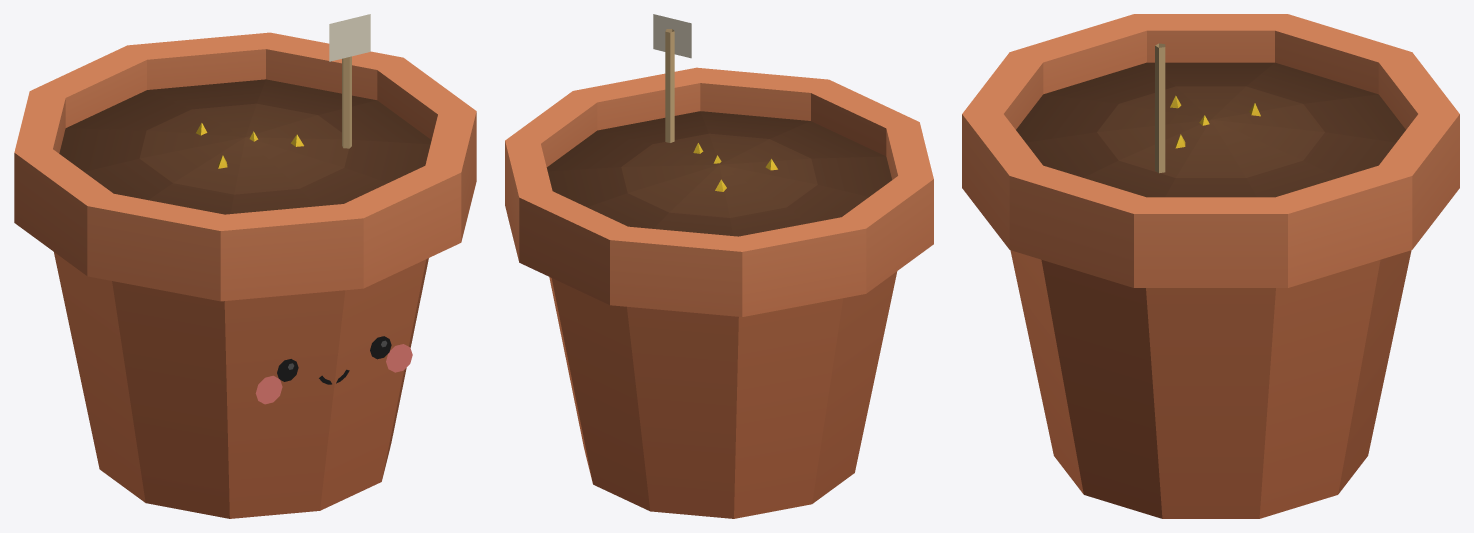
File: cute_corn_stage1.glb
3 views of the same model, side by side, from view 1: azimuth 30°, elevation 25°; view 2: azimuth 150°, elevation 25°; view 3: azimuth 270°, elevation 25° (orthographic). The views are drawn at different scales.
Visible parts, largest first — view 1: CornPlant; view 2: CornPlant; view 3: CornPlant.
Part boxes in pixels (box(x1,y1,x2,y2)): CornPlant: box(14, 14, 476, 518); CornPlant: box(505, 14, 933, 518); CornPlant: box(962, 14, 1459, 518).
Bounding box in the file's own units: 0.3766 × 0.405 × 0.396.
